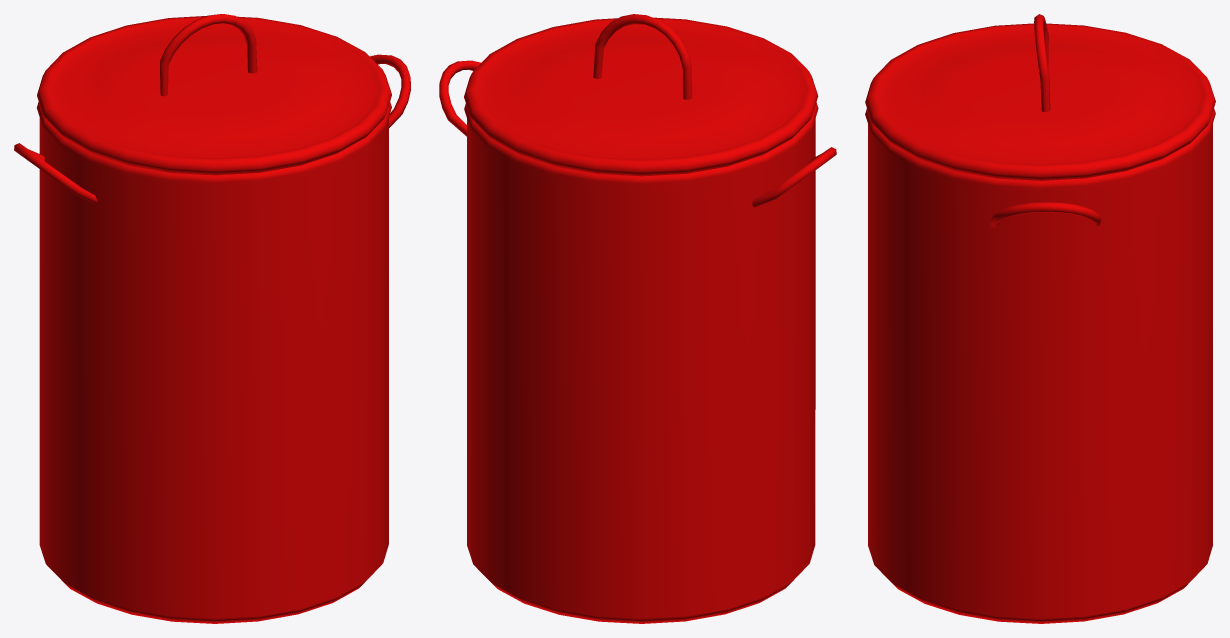
The model's file is laundry_hampers_grp.fbx.
3 views of the same model, side by side, from view 1: azimuth 30°, elevation 25°; view 2: azimuth 150°, elevation 25°; view 3: azimuth 270°, elevation 25° (orthographic).
Parts seen in each view (by area): view 1: laundry_hamper_1, laundry_hamper_lid_1; view 2: laundry_hamper_1, laundry_hamper_lid_1; view 3: laundry_hamper_1, laundry_hamper_lid_1.
Part boxes in pixels (<box>): laundry_hamper_1: <box>14,54,410,623</box>; laundry_hamper_lid_1: <box>37,14,391,174</box>; laundry_hamper_1: <box>439,60,836,623</box>; laundry_hamper_lid_1: <box>464,14,818,175</box>; laundry_hamper_1: <box>865,108,1215,623</box>; laundry_hamper_lid_1: <box>865,14,1215,180</box>.
Bounding box in the file's own units: 44.36 × 60.32 × 35.98.
